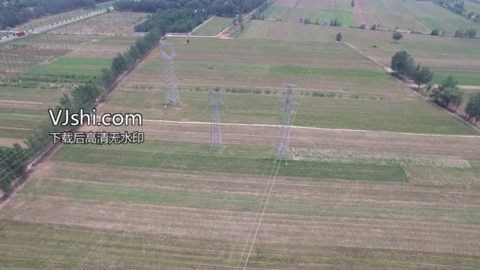tower_body: (157, 38, 183, 109), (277, 82, 298, 166), (206, 89, 225, 150)
